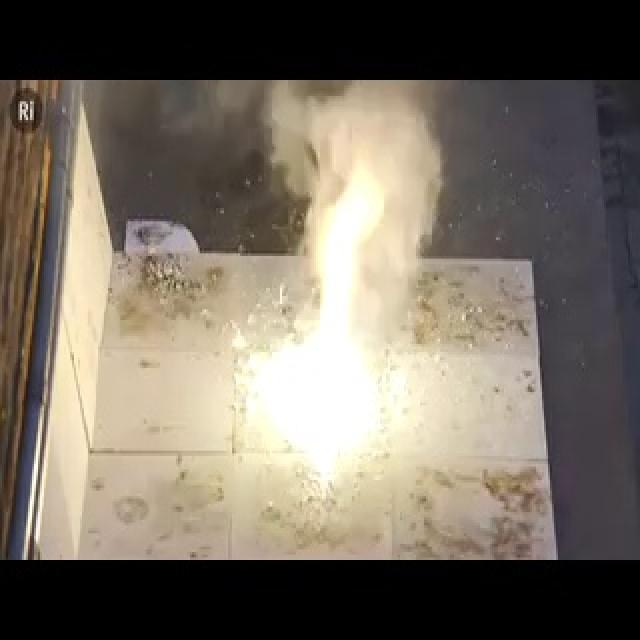fire: (245, 197, 393, 480)
